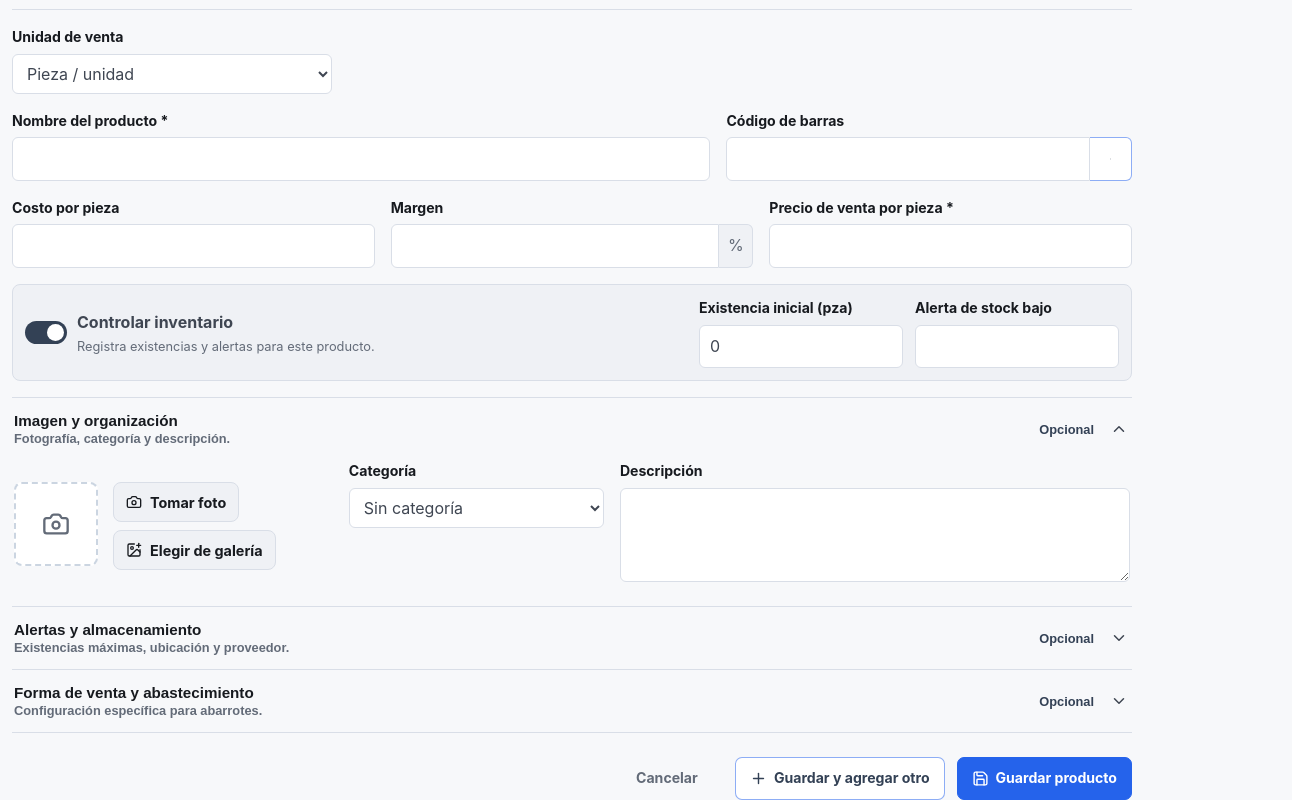
it: ProductFormV2 › places grocery classification before the core product fields and avoids a duplicate lower selector
Click the button "Forma de venta y abastecimiento" at [134, 693], box [12,670,1132,732]
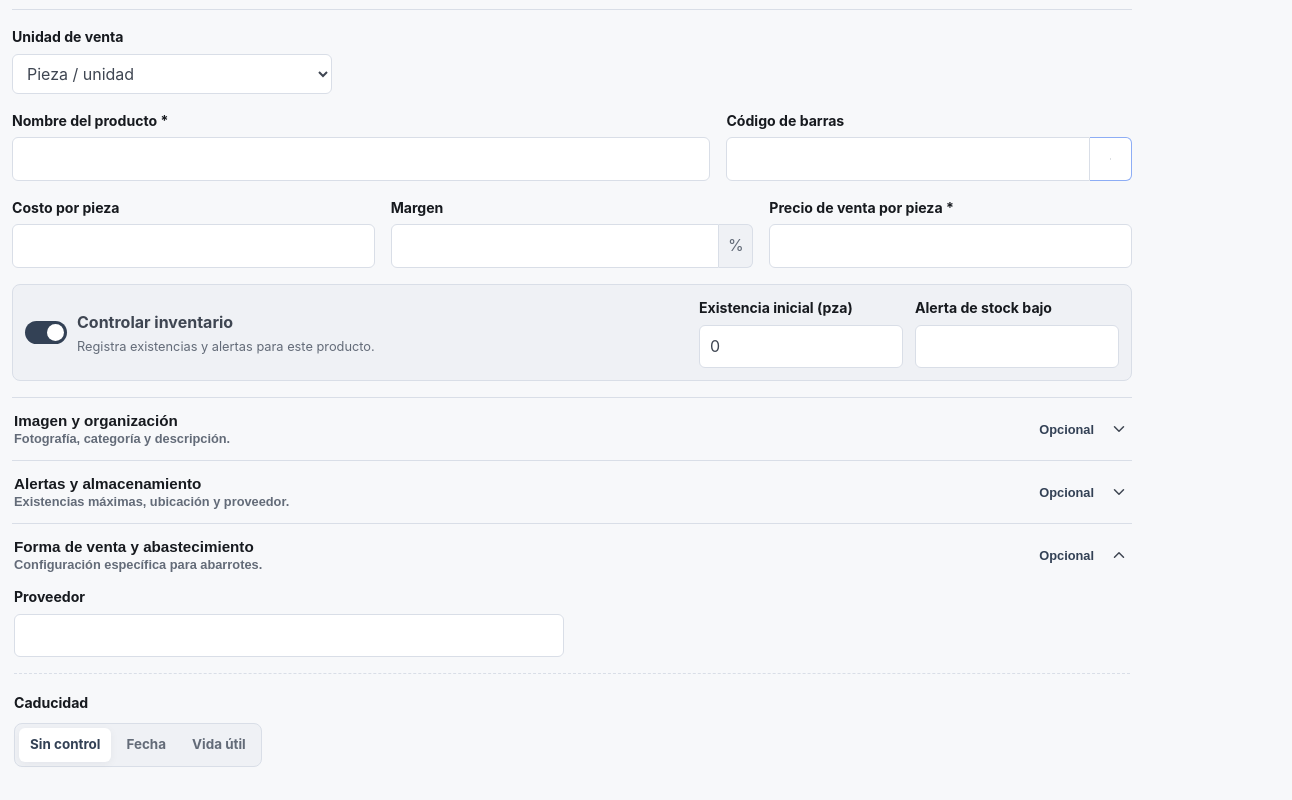
expect the button "Forma de venta y abastecimiento" is expanded: met, box [12,524,1132,586]
